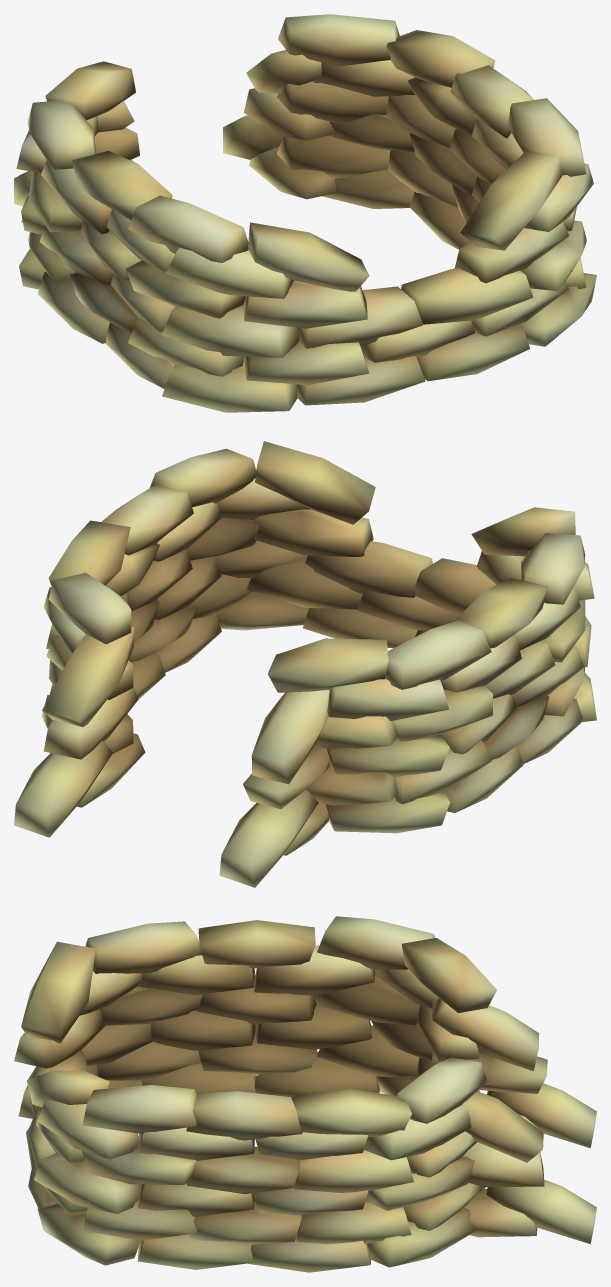
Rendered from sandbags_01_nest_a.dae.
The picture shows the model from 3 angles, top to bottom: view 1: azimuth 30°, elevation 25°; view 2: azimuth 150°, elevation 25°; view 3: azimuth 270°, elevation 25°; orthographic projection. The views are drawn at different scales.
Parts seen in each view (by area): view 1: sandbagsNA10; view 2: sandbagsNA10; view 3: sandbagsNA10.
Part boxes in pixels (left/top/right/bottom): sandbagsNA10: left=14, top=14, right=596, bottom=412; sandbagsNA10: left=14, top=441, right=596, bottom=887; sandbagsNA10: left=14, top=916, right=596, bottom=1272.
Size of what is drawn, in the model's own units: 2.78 by 3.45 by 1.17.
